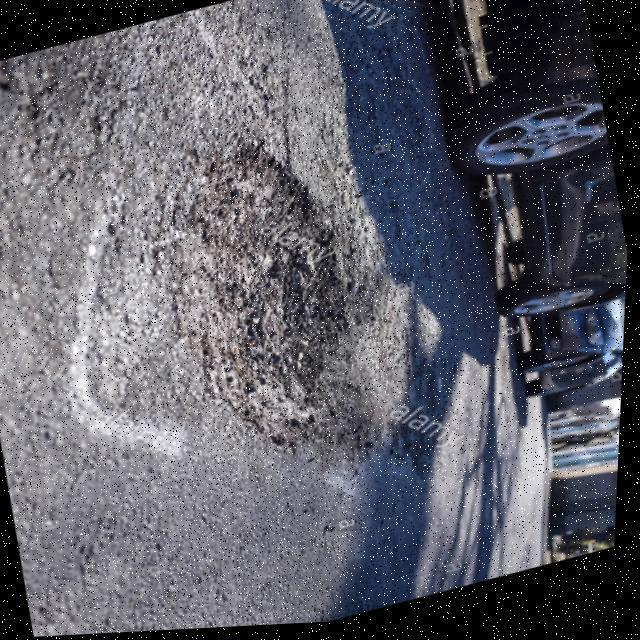Pothole: (148, 127, 392, 475)
